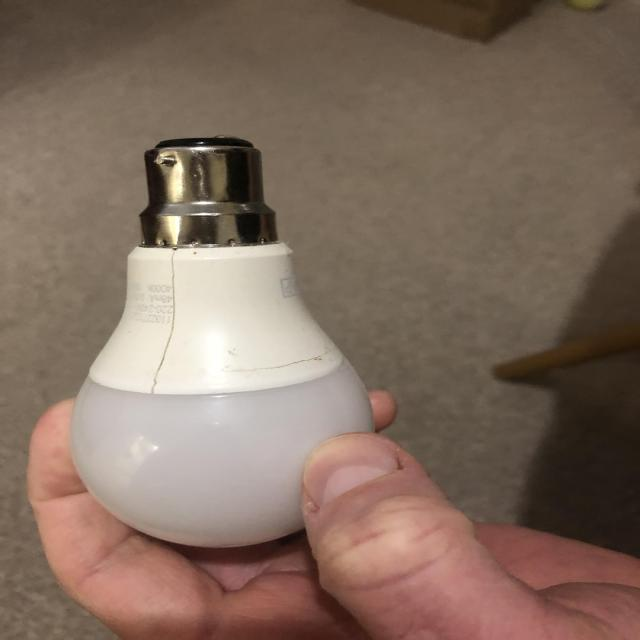bulb: (53, 101, 370, 558)
